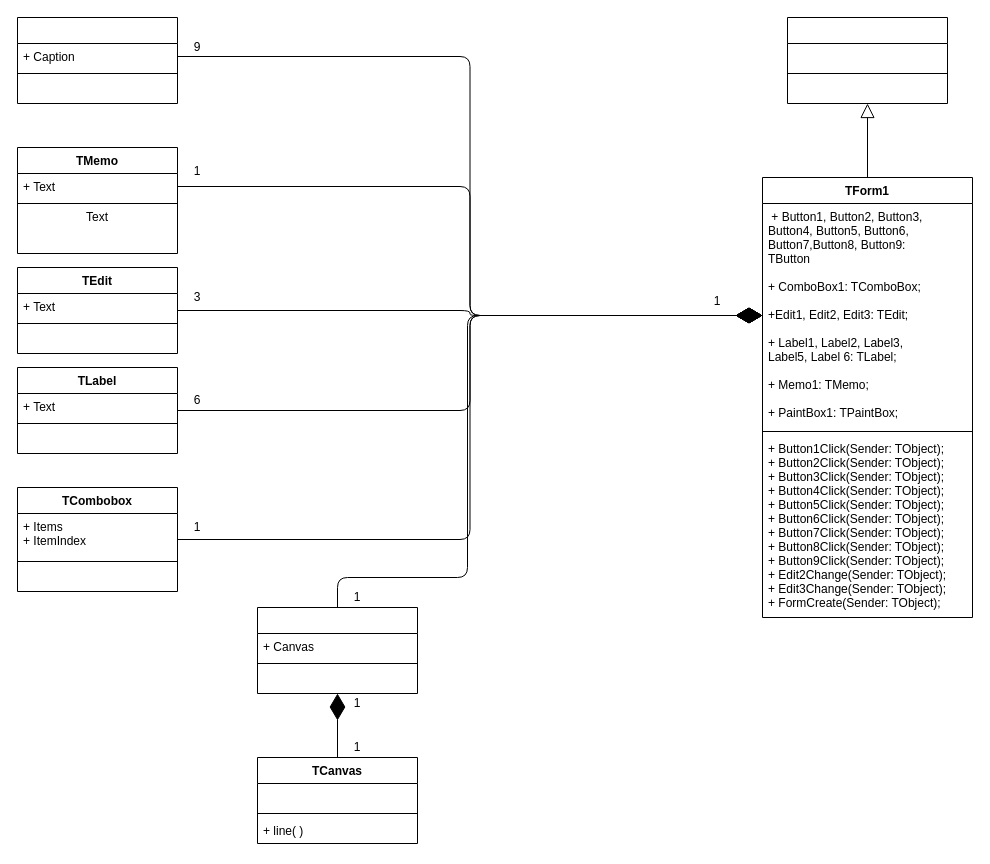
The diagram is 990 pixels wide and 864 high, and some of its shapes have lost their labels. The box of each missing label's shape, as (x1, y1, x2, y2) in pixels:
TButton: (16, 16, 178, 104)
TForm: (786, 16, 948, 104)
TPaintBox: (256, 606, 418, 694)
